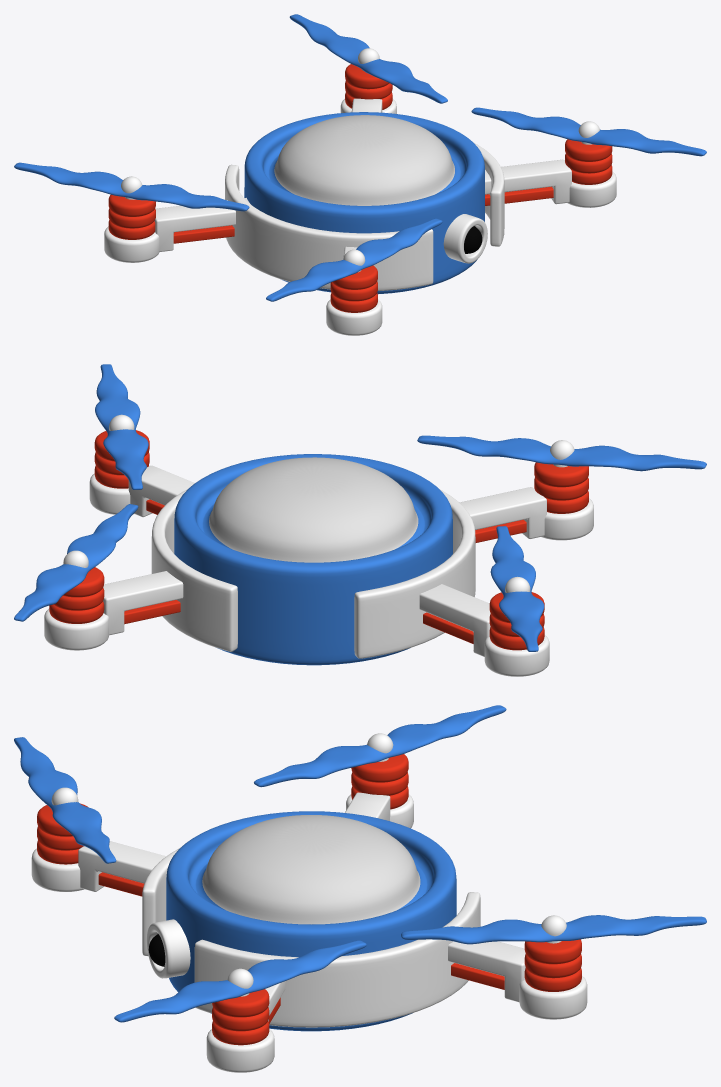
The model's file is robot-drone-3d-animated-icon-827285516909.glb.
3 renders of one model, top to bottom at view 1: azimuth 30°, elevation 25°; view 2: azimuth 150°, elevation 25°; view 3: azimuth 270°, elevation 25°, orthographic. The views are drawn at different scales.
Parts seen in each view (by area): view 1: Cylinder.244, Cylinder.245, Plane.038, Plane.040, Plane.041, Plane.039, Cylinder.257, Cylinder.251, Cylinder.260, Cylinder.248, Cylinder.254, Cube.203 (+1 smaller); view 2: Cylinder.244, Cylinder.245, Plane.041, Plane.039, Plane.040, Plane.038, Cylinder.260, Cylinder.254, Cylinder.257, Cylinder.251, Cube.201, Cube.203 (+1 smaller); view 3: Cylinder.244, Cylinder.245, Plane.039, Plane.038, Plane.040, Plane.041, Cylinder.254, Cylinder.251, Cylinder.257, Cylinder.248, Cylinder.260, Cube.201 (+1 smaller).
Boxes of the visible parts, x1=… form: Cylinder.244: x1=244, y1=112, x2=484, y2=294; Cylinder.245: x1=104, y1=98, x2=616, y2=335; Plane.038: x1=471, y1=107, x2=706, y2=156; Plane.040: x1=14, y1=162, x2=249, y2=211; Plane.041: x1=266, y1=218, x2=442, y2=301; Plane.039: x1=289, y1=14, x2=447, y2=103; Cylinder.257: x1=108, y1=194, x2=155, y2=239; Cylinder.251: x1=565, y1=139, x2=612, y2=184; Cylinder.260: x1=330, y1=265, x2=377, y2=312; Cylinder.248: x1=443, y1=214, x2=487, y2=263; Cylinder.254: x1=345, y1=64, x2=392, y2=109; Cube.203: x1=173, y1=225, x2=234, y2=243; Cylinder.244: x1=174, y1=454, x2=452, y2=665; Cylinder.245: x1=44, y1=465, x2=593, y2=676; Plane.041: x1=417, y1=435, x2=706, y2=471; Plane.039: x1=14, y1=504, x2=138, y2=621; Plane.040: x1=490, y1=526, x2=544, y2=651; Plane.038: x1=95, y1=364, x2=148, y2=489; Cylinder.260: x1=534, y1=462, x2=588, y2=513; Cylinder.254: x1=49, y1=567, x2=104, y2=623; Cylinder.257: x1=489, y1=592, x2=544, y2=650; Cylinder.251: x1=94, y1=430, x2=149, y2=488; Cube.201: x1=124, y1=600, x2=180, y2=624; Cube.203: x1=423, y1=612, x2=473, y2=643; Cylinder.244: x1=166, y1=811, x2=456, y2=1031; Cylinder.245: x1=31, y1=792, x2=587, y2=1072; Plane.039: x1=401, y1=915, x2=706, y2=944; Plane.038: x1=114, y1=940, x2=366, y2=1022; Plane.040: x1=254, y1=705, x2=506, y2=787; Plane.041: x1=14, y1=737, x2=116, y2=863; Cylinder.254: x1=524, y1=939, x2=581, y2=991; Cylinder.251: x1=212, y1=989, x2=269, y2=1045; Cylinder.257: x1=351, y1=754, x2=408, y2=809; Cylinder.248: x1=146, y1=919, x2=190, y2=978; Cylinder.260: x1=37, y1=803, x2=88, y2=864; Cube.201: x1=451, y1=963, x2=504, y2=989.
Bounding box in the file's own units: 11.67 × 2.34 × 10.85.
